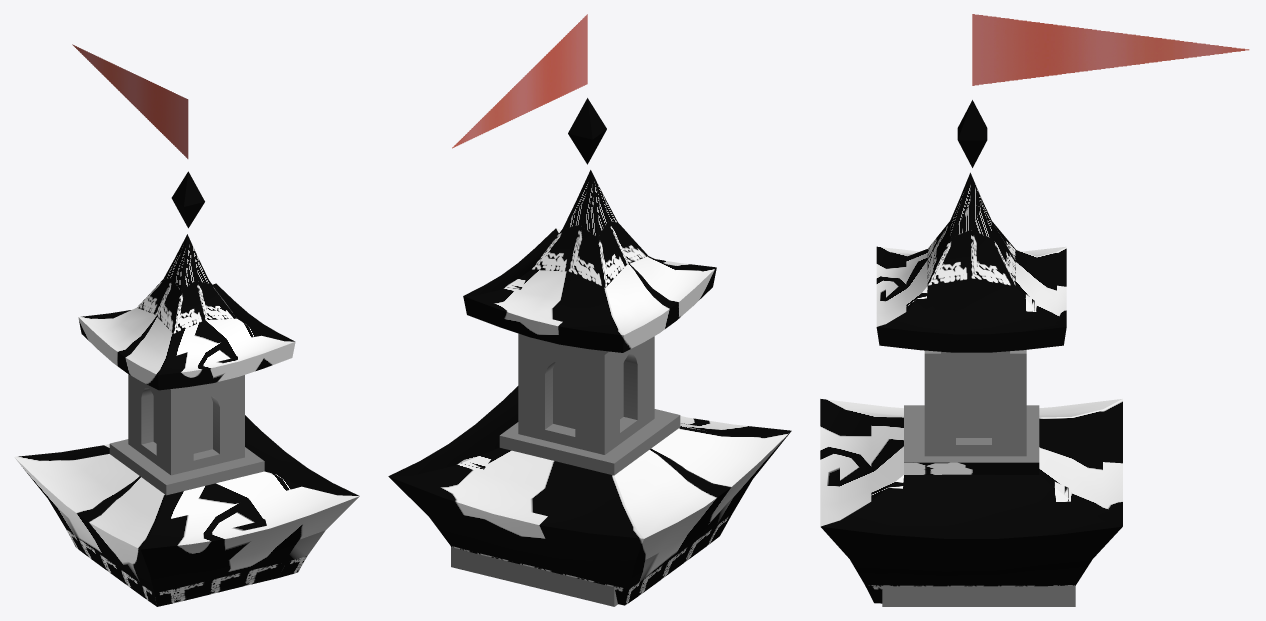
File: Group_Flag.fbx
The picture shows the model from 3 angles, left to right: view 1: azimuth 30°, elevation 25°; view 2: azimuth 150°, elevation 25°; view 3: azimuth 270°, elevation 25°; orthographic projection. The views are drawn at different scales.
Parts seen in each view (by area): view 1: Rooftops_Wall_Big (3), Flag; view 2: Rooftops_Wall_Big (3), Flag; view 3: Rooftops_Wall_Big (3), Flag.
Part boxes in pixels (left/top/right/bottom): Rooftops_Wall_Big (3): left=14, top=171, right=359, bottom=606; Flag: left=72, top=44, right=188, bottom=158; Rooftops_Wall_Big (3): left=388, top=98, right=791, bottom=606; Flag: left=452, top=14, right=587, bottom=148; Rooftops_Wall_Big (3): left=820, top=100, right=1122, bottom=606; Flag: left=972, top=14, right=1249, bottom=85.
Size of the model in its own units: 3.17 by 6.36 by 4.52.
Materials: 4 (3 with a texture image).
